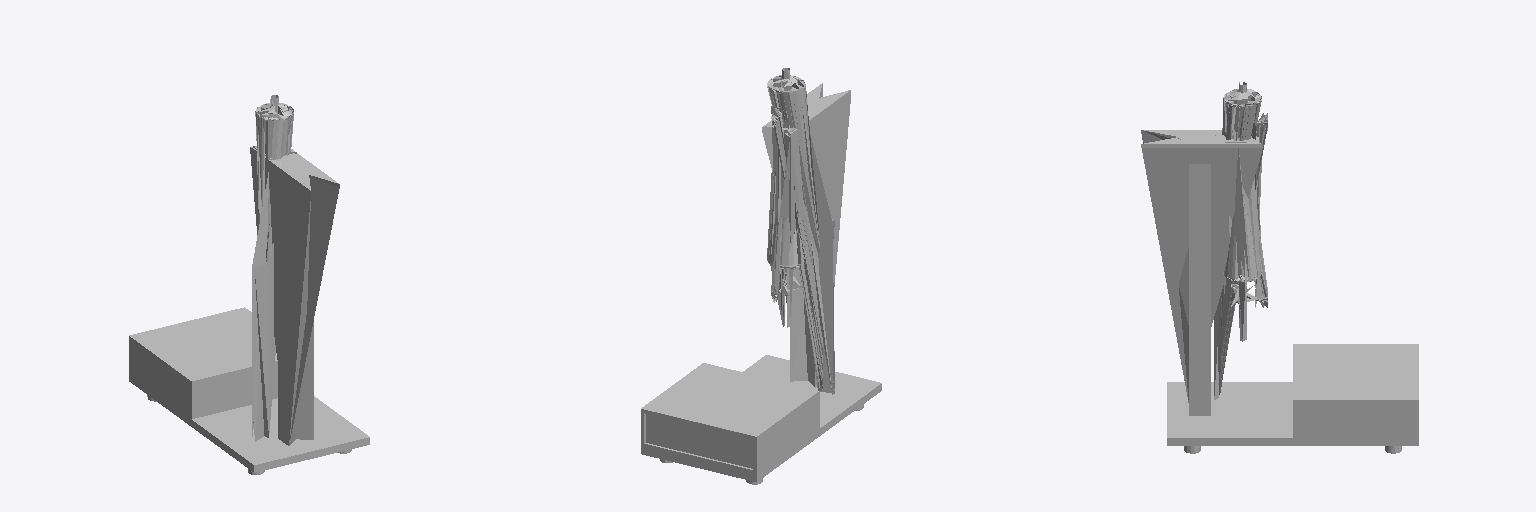
The model's file is pendulum0003.obj.
3 views of the same model, side by side, from view 1: azimuth 30°, elevation 25°; view 2: azimuth 150°, elevation 25°; view 3: azimuth 270°, elevation 25° (orthographic).
Parts seen in each view (by area): view 1: node3, node1, node0, node6, node5; view 2: node1, node3, node6, node0, node7, node4, node5, node8; view 3: node3, node1, node0, node4, node6, node5, node7, node8.
Boxes of the visible parts, x1=… form: node3: x1=250, y1=147, x2=339, y2=445; node1: x1=129, y1=307, x2=277, y2=418; node0: x1=129, y1=374, x2=369, y2=474; node6: x1=252, y1=103, x2=293, y2=441; node5: x1=257, y1=103, x2=292, y2=155; node1: x1=641, y1=363, x2=819, y2=474; node3: x1=762, y1=83, x2=850, y2=387; node6: x1=767, y1=77, x2=834, y2=394; node0: x1=641, y1=355, x2=881, y2=484; node7: x1=771, y1=107, x2=822, y2=387; node4: x1=766, y1=68, x2=850, y2=327; node5: x1=769, y1=75, x2=804, y2=268; node8: x1=771, y1=106, x2=788, y2=302; node3: x1=1141, y1=130, x2=1262, y2=415; node1: x1=1293, y1=344, x2=1418, y2=437; node0: x1=1167, y1=382, x2=1418, y2=453; node4: x1=1143, y1=82, x2=1261, y2=341; node6: x1=1214, y1=91, x2=1261, y2=399; node5: x1=1223, y1=89, x2=1261, y2=282; node7: x1=1220, y1=113, x2=1267, y2=392; node8: x1=1232, y1=118, x2=1267, y2=307.
Size of the model in its own units: 11.99 by 34.18 by 24.81.